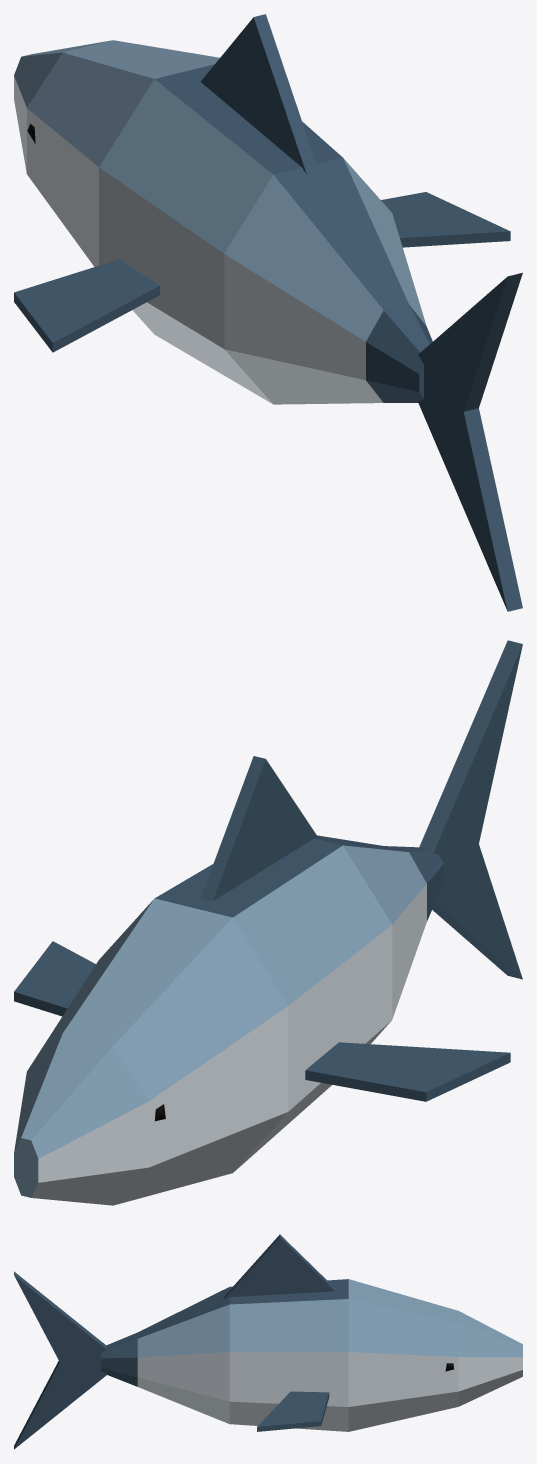
Rendered from fish_b.glb.
3 renders of one model, top to bottom at view 1: azimuth 30°, elevation 25°; view 2: azimuth 150°, elevation 25°; view 3: azimuth 270°, elevation 25°, orthographic. The views are drawn at different scales.
Visible parts, largest first — view 1: Body, Fin_Tail, Fin_Dorsal, Fin_L, Fin_R; view 2: Body, Fin_Tail, Fin_L, Fin_Dorsal, Fin_R; view 3: Body, Fin_Tail, Fin_Dorsal, Fin_R.
Boxes of the visible parts, x1,y1,x2,y2 form: Body: [14, 40, 426, 404]; Fin_Tail: [366, 272, 522, 611]; Fin_Dorsal: [201, 14, 319, 175]; Fin_L: [14, 259, 159, 352]; Fin_R: [381, 192, 510, 247]; Body: [14, 835, 426, 1205]; Fin_Tail: [384, 640, 522, 979]; Fin_L: [305, 1042, 510, 1101]; Fin_Dorsal: [200, 756, 318, 901]; Fin_R: [14, 941, 95, 1016]; Body: [137, 1279, 522, 1431]; Fin_Tail: [14, 1271, 137, 1449]; Fin_Dorsal: [224, 1234, 335, 1299]; Fin_R: [257, 1391, 329, 1431].
Bounding box in the file's own units: 0.27 × 0.2295 × 0.4995.
